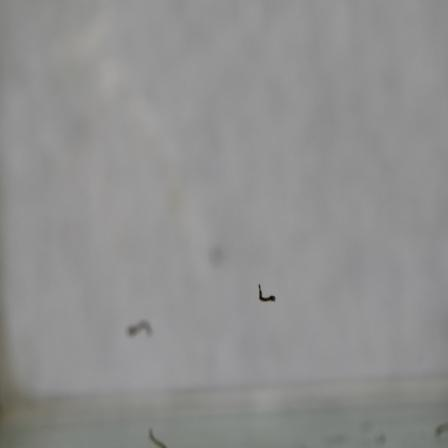Jentik-Nyamuk: (254, 281, 281, 306)
